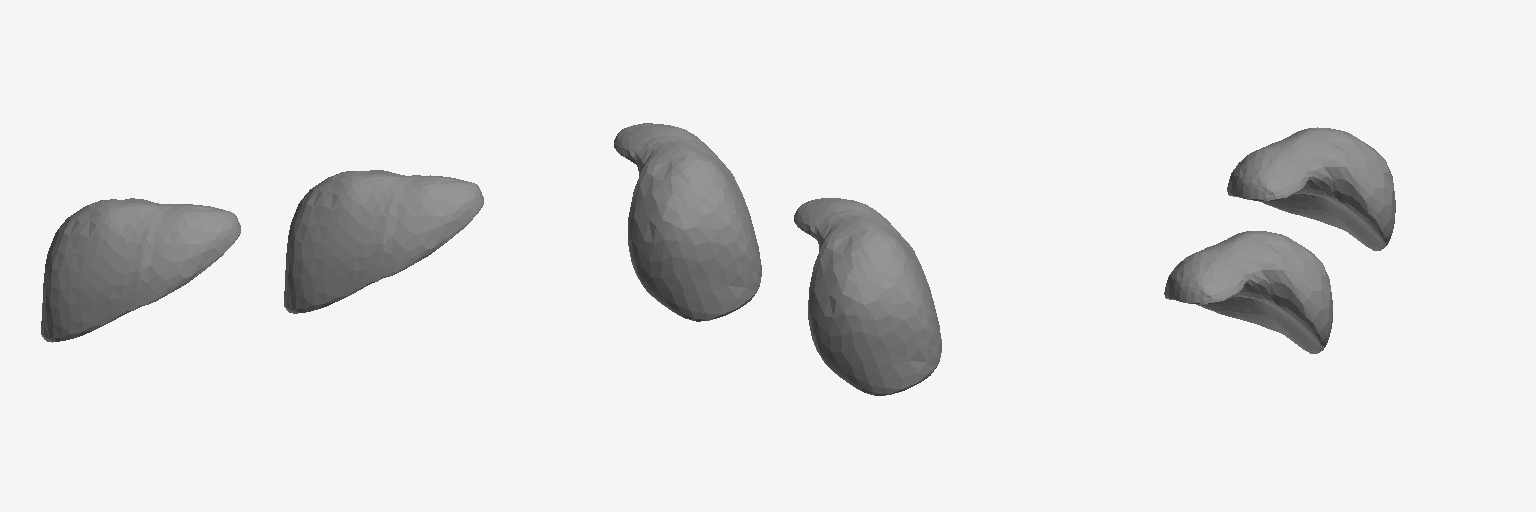
File: pic1.obj
The picture shows the model from 3 angles: view 1: azimuth 30°, elevation 25°; view 2: azimuth 150°, elevation 25°; view 3: azimuth 270°, elevation 25°; orthographic projection.
Visible parts, largest first — view 1: default, default01; view 2: default01, default; view 3: default01, default.
Part boxes in pixels (x1,y1,x2,y2): default: (41,198,240,342); default01: (284,170,483,313); default01: (614,123,761,321); default: (794,198,941,395); default01: (1164,231,1332,353); default: (1227,127,1395,250).
Size of the model in its own units: 13.63 by 4.76 by 7.27.